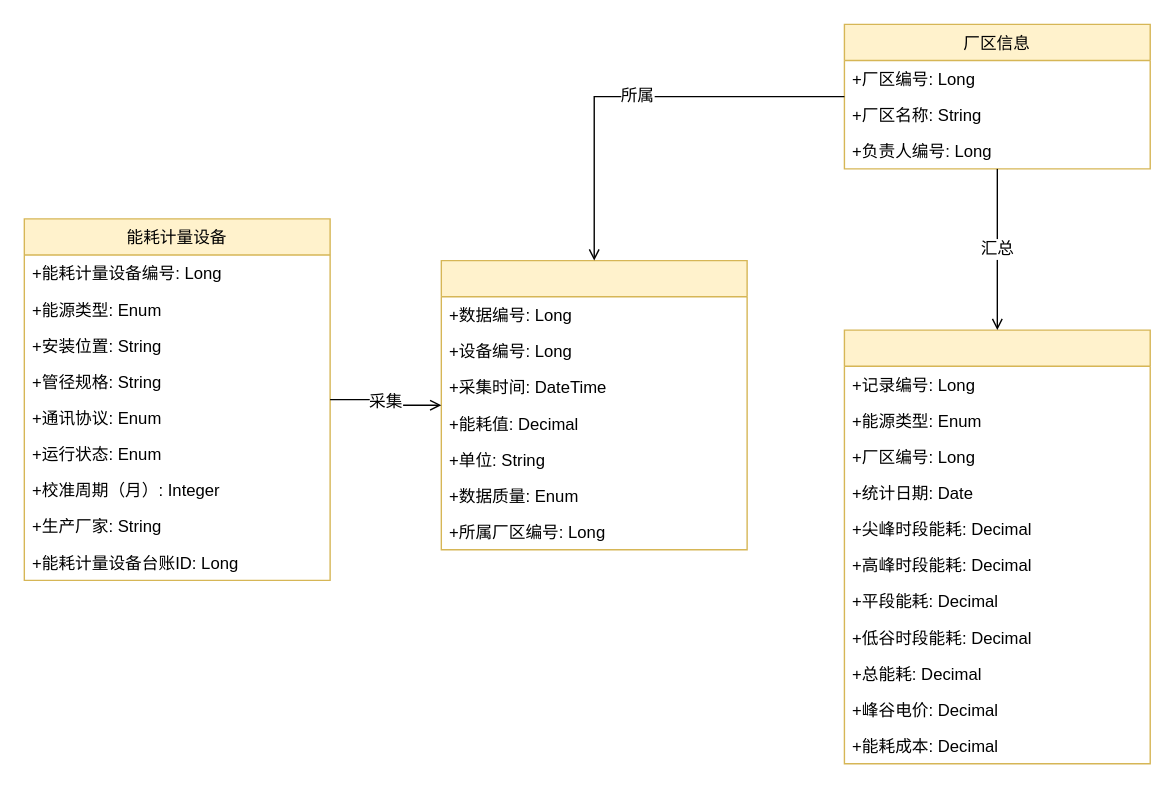
The diagram is 1175 pixels wide and 792 high, and some of its shapes have lost their labels. Each missing label, with the box of its shape:
峰谷能耗数据: (843, 329, 1150, 764)
能耗监测数据: (440, 259, 747, 550)
